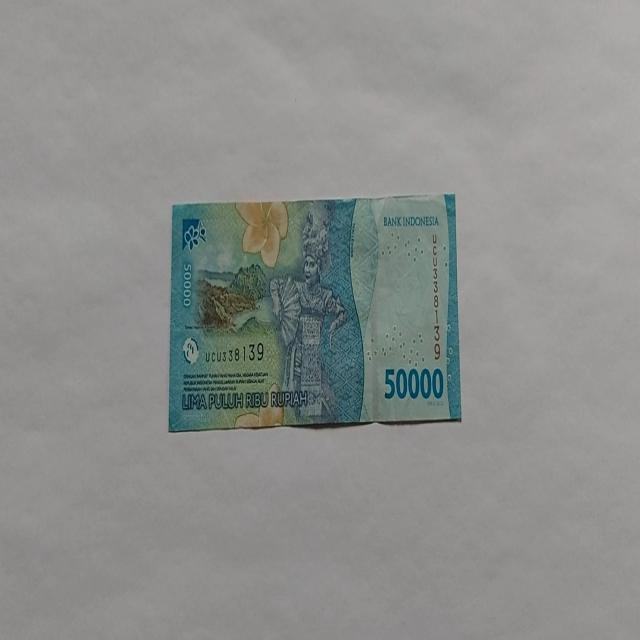lima puluh ribu rupiah: (168, 193, 462, 432)
